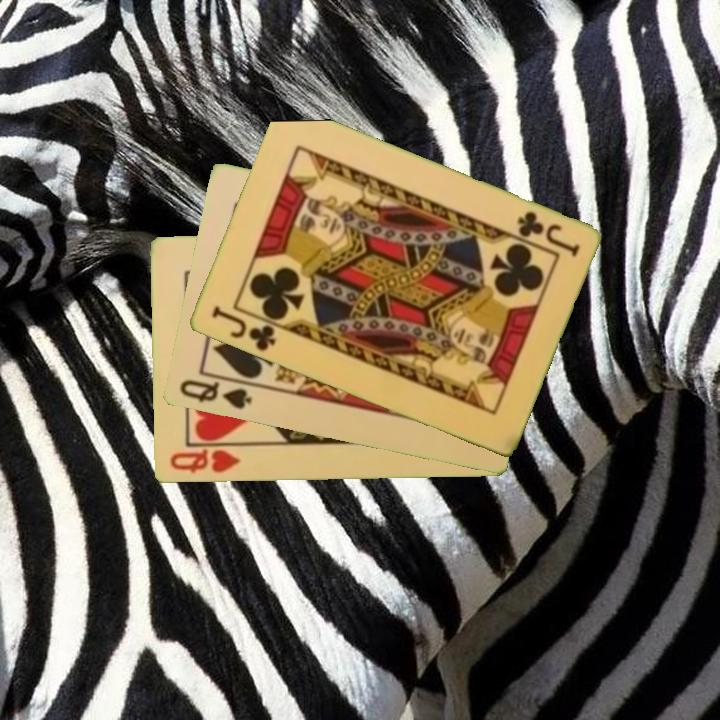Jc: (207, 302, 278, 355), (512, 207, 582, 260)
Qh: (167, 446, 244, 476)
Qs: (176, 376, 255, 413)
